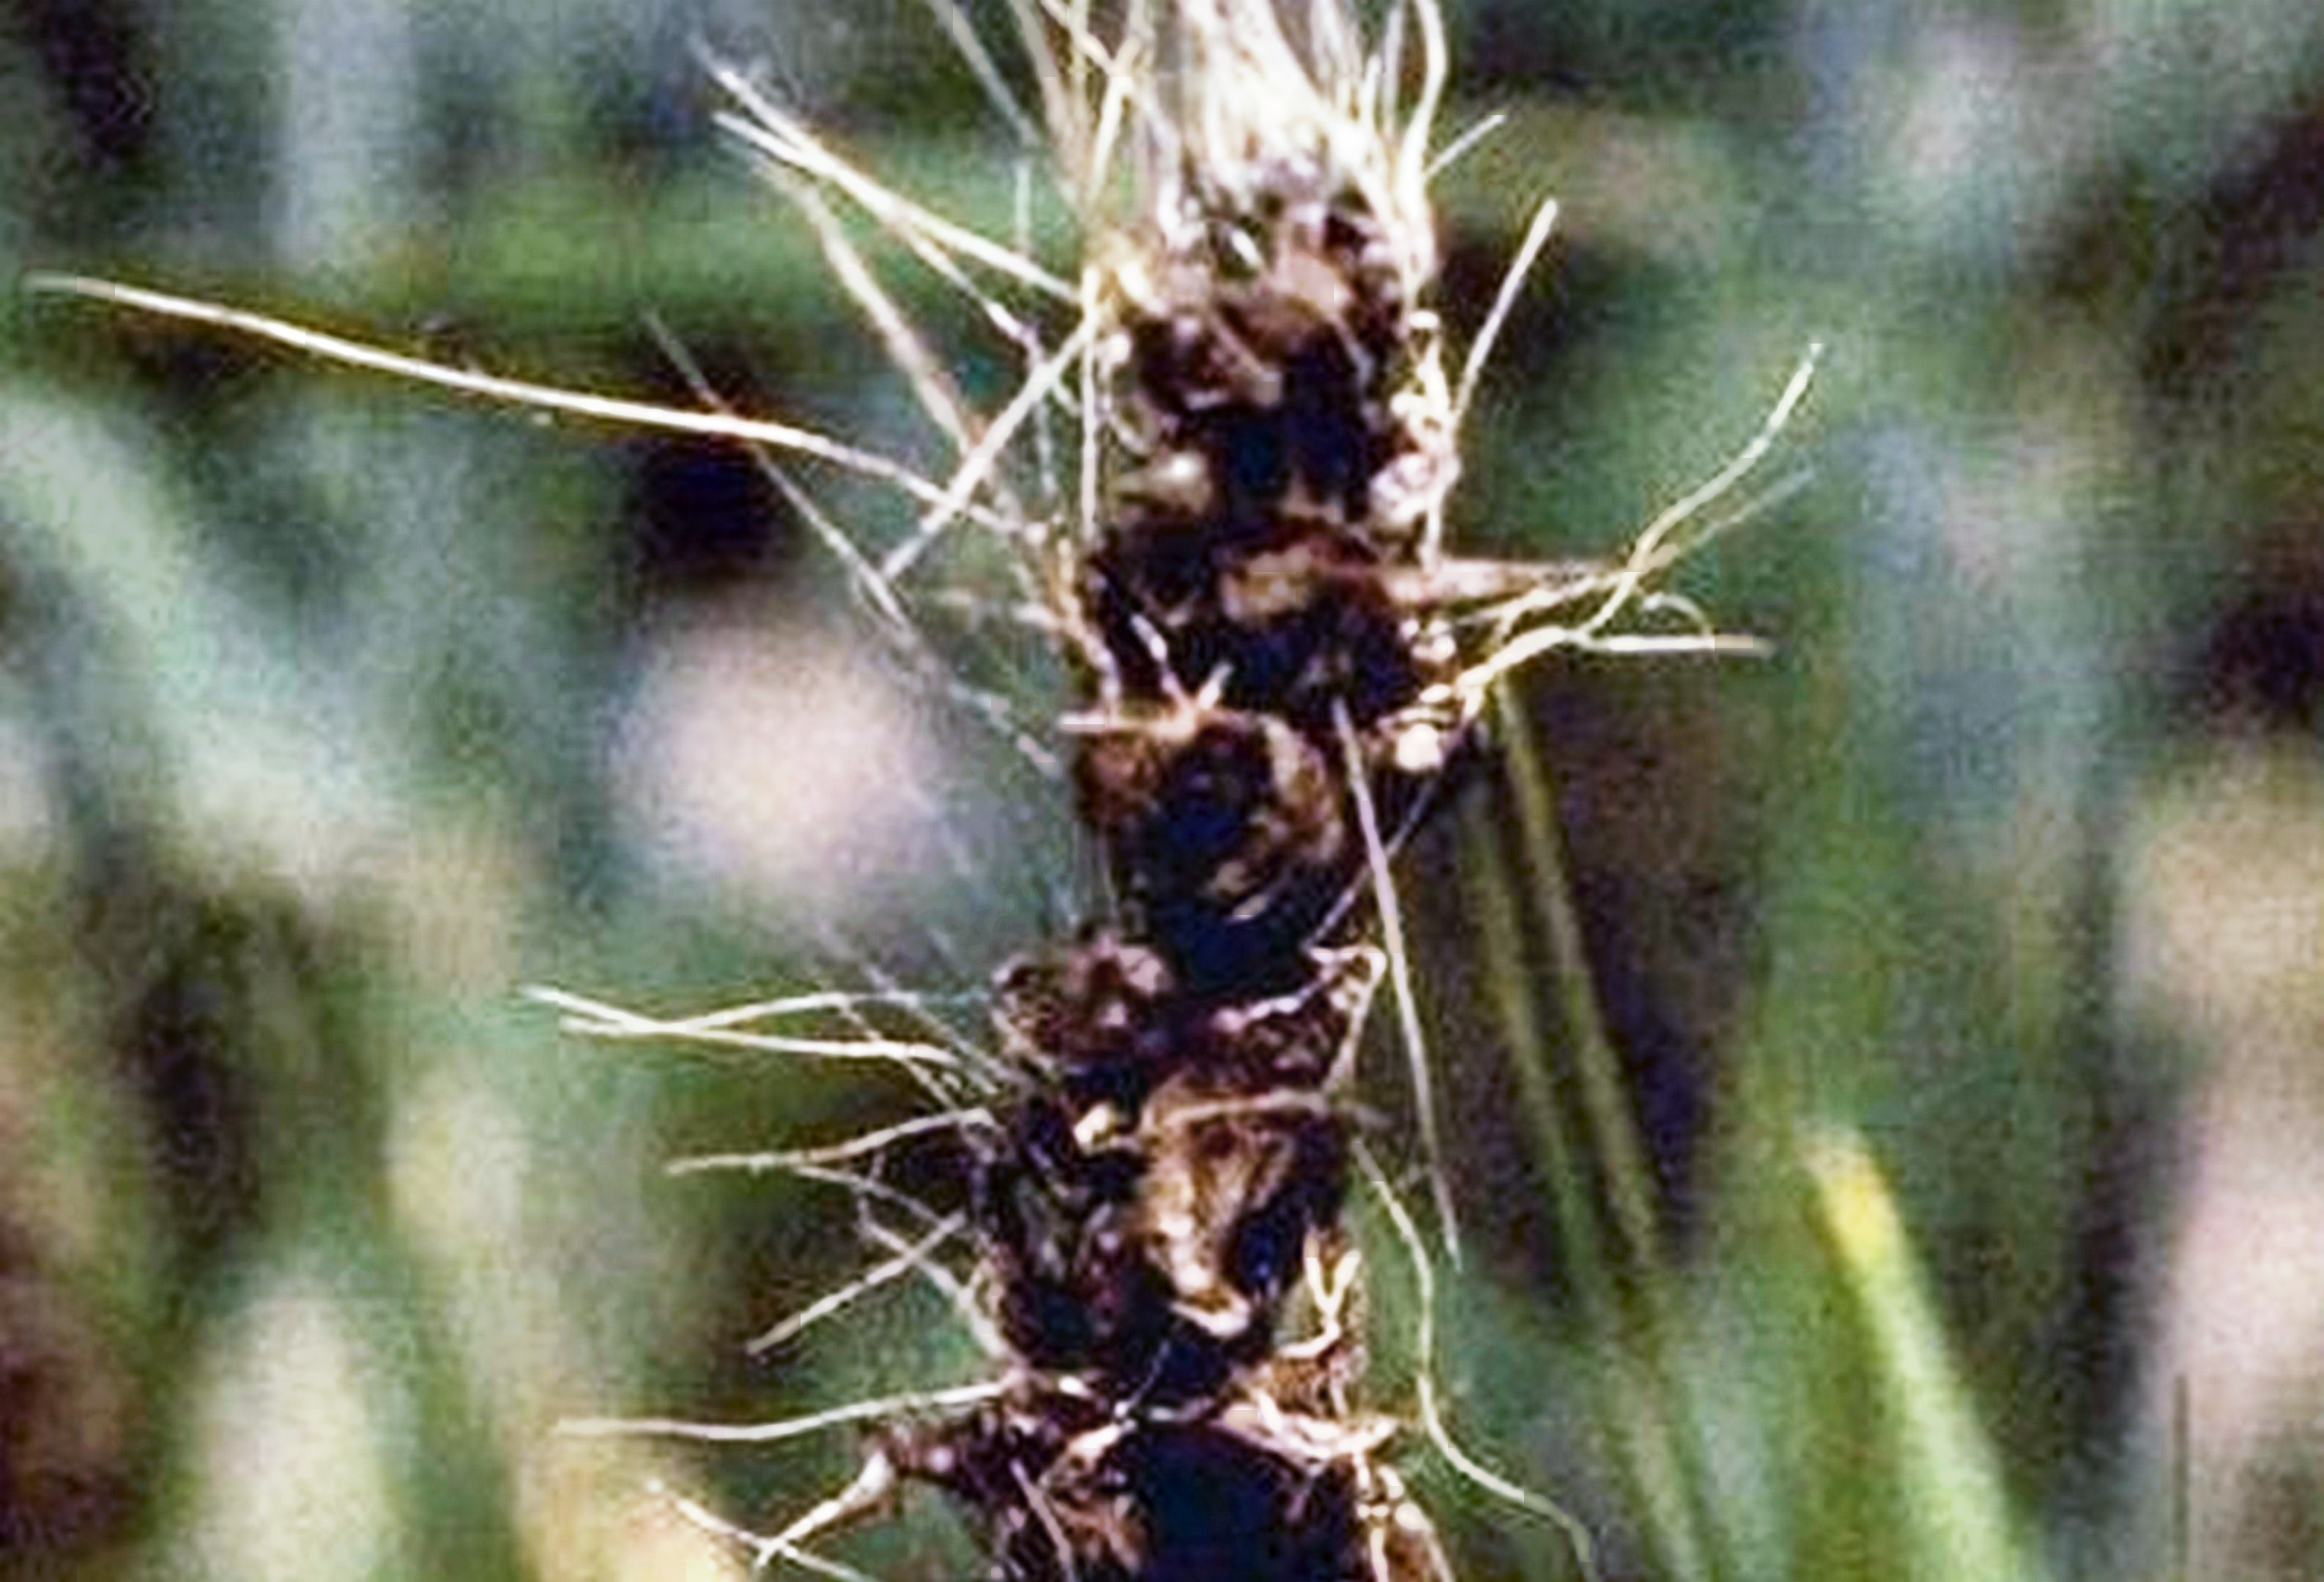Wheat Loose Smut: (948, 115, 1490, 1517)
